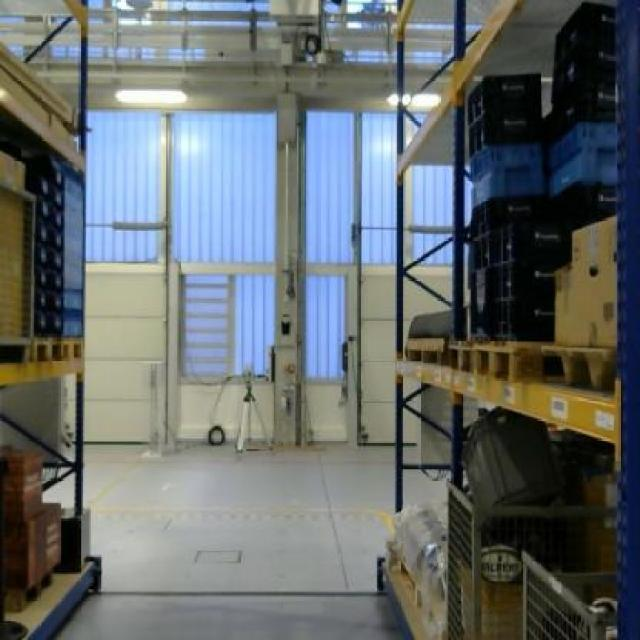box: (571, 212, 617, 350), (0, 151, 25, 337)
